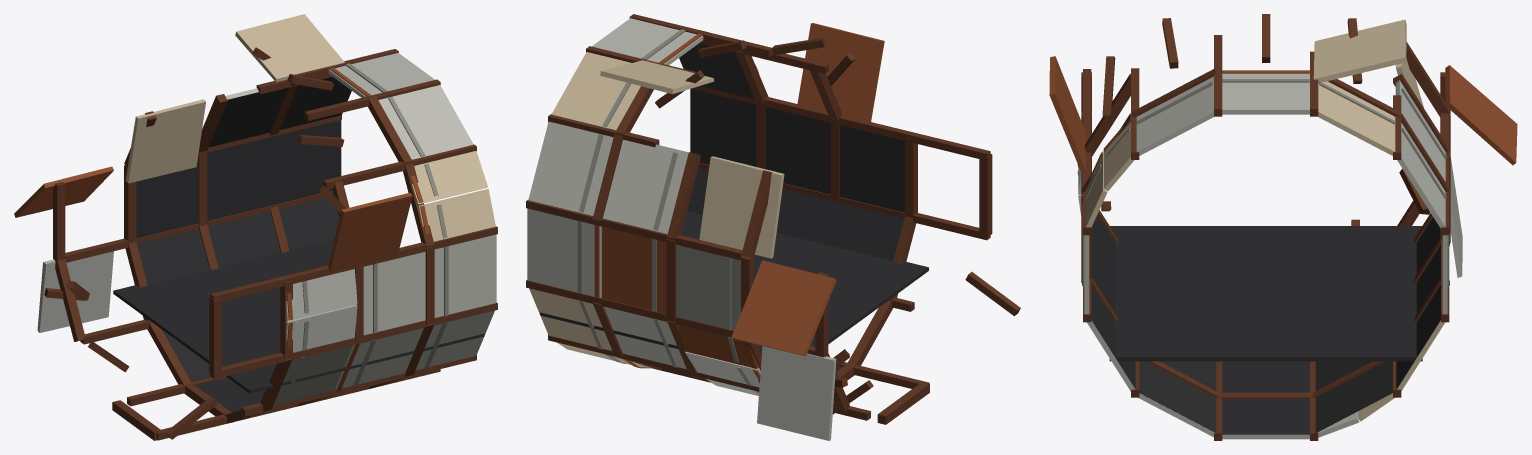
Rendered from ship_hull_stern.glb.
The picture shows the model from 3 angles, left to right: view 1: azimuth 30°, elevation 25°; view 2: azimuth 150°, elevation 25°; view 3: azimuth 270°, elevation 25°; orthographic projection. The views are drawn at different scales.
Visible parts, largest first — view 1: ship_hull_stern; view 2: ship_hull_stern; view 3: ship_hull_stern.
Part boxes in pixels (box(x1,y1,x2,y2)): ship_hull_stern: box(14, 14, 497, 440); ship_hull_stern: box(526, 14, 1020, 440); ship_hull_stern: box(1049, 14, 1517, 440).
Bounding box in the file's own units: 40.67 × 38.21 × 44.84.
